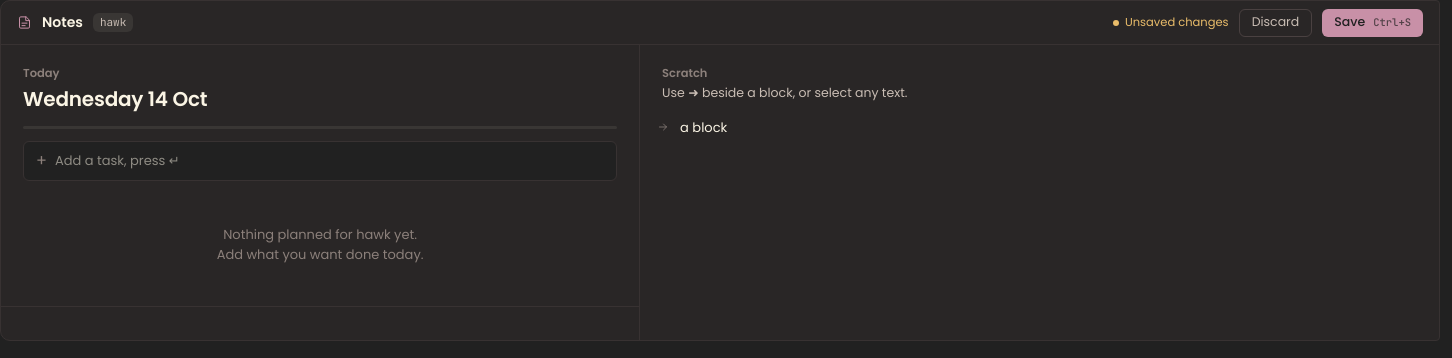
Scenario: Notes — Scratch › says so when no session is running
Click the element named "Send block 1 to a session".
click(663, 127)  # box [657,121,669,133]
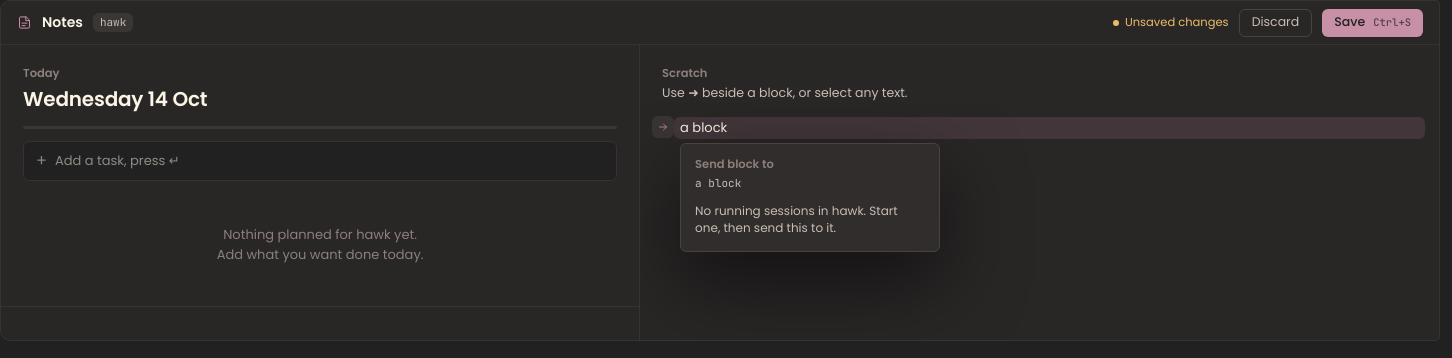
Result: the text "No running sessions in hawk" is shown at [695,202,898,236]
